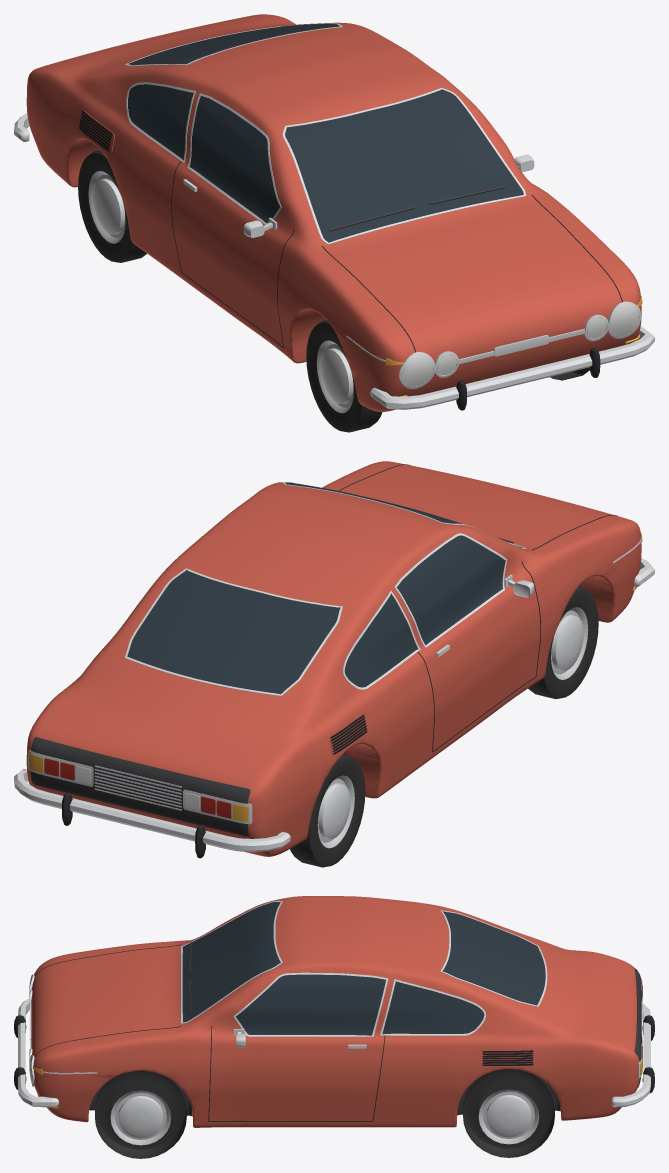
Rendered from skoda110r.glb.
The picture shows the model from 3 angles, top to bottom: view 1: azimuth 30°, elevation 25°; view 2: azimuth 150°, elevation 25°; view 3: azimuth 270°, elevation 25°; orthographic projection. The views are drawn at different scales.
Visible parts, largest first — view 1: paint, glass, trim, wheel_fr, wheel_rr, headlights, mirrors; view 2: paint, glass, trim, wheel_rr, wheel_fr, taillights; view 3: paint, glass, trim, wheel_rl, wheel_fl.
Part boxes in pixels (x1,y1,x2,y2): paint: (26, 14, 641, 411); glass: (128, 24, 523, 242); trim: (14, 23, 654, 410); wheel_fr: (306, 320, 382, 432); wheel_rr: (78, 150, 146, 262); headlights: (402, 305, 638, 386); mirrors: (243, 154, 534, 237); paint: (26, 461, 641, 856); glass: (127, 482, 523, 694); trim: (14, 464, 654, 858); wheel_rr: (290, 754, 365, 867); wheel_fr: (528, 586, 598, 699); taillights: (44, 758, 231, 818); paint: (31, 896, 639, 1127); glass: (182, 902, 545, 1035); trim: (14, 901, 654, 1121); wheel_rl: (463, 1069, 554, 1157); wheel_fl: (95, 1071, 186, 1158).
Size of the model in its own units: 1.72 by 1.35 by 4.18.
